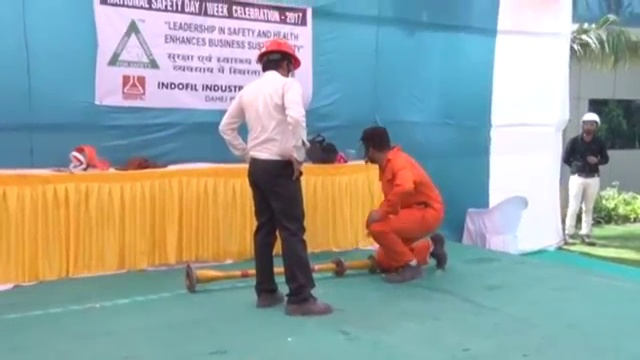helmet: (257, 39, 301, 70), (581, 111, 602, 129)
helmet_off: (360, 124, 392, 164)
helmet_on: (255, 38, 300, 80), (578, 111, 601, 142)
person: (218, 38, 337, 314), (360, 123, 449, 282), (563, 113, 609, 246)
